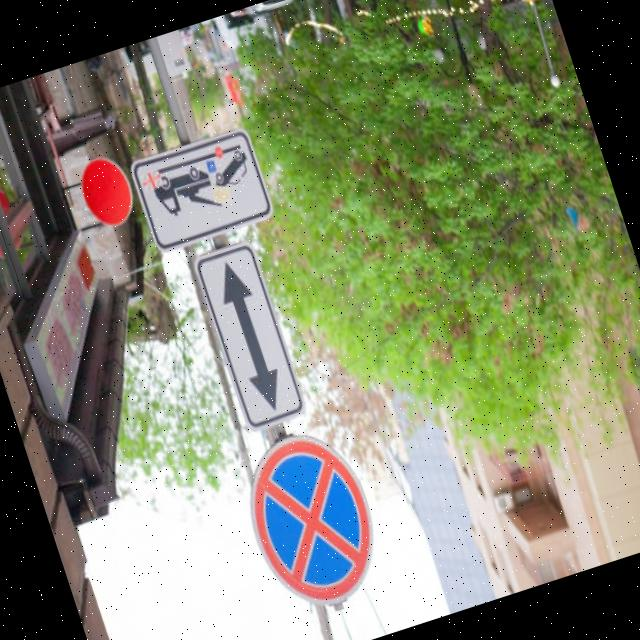no_parking: (226, 415, 400, 622)
